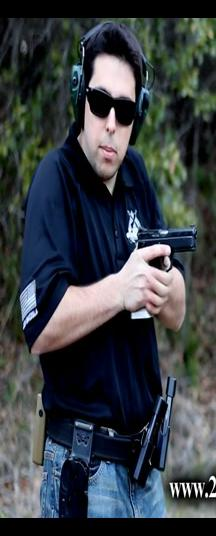pistol: (134, 223, 200, 323)
